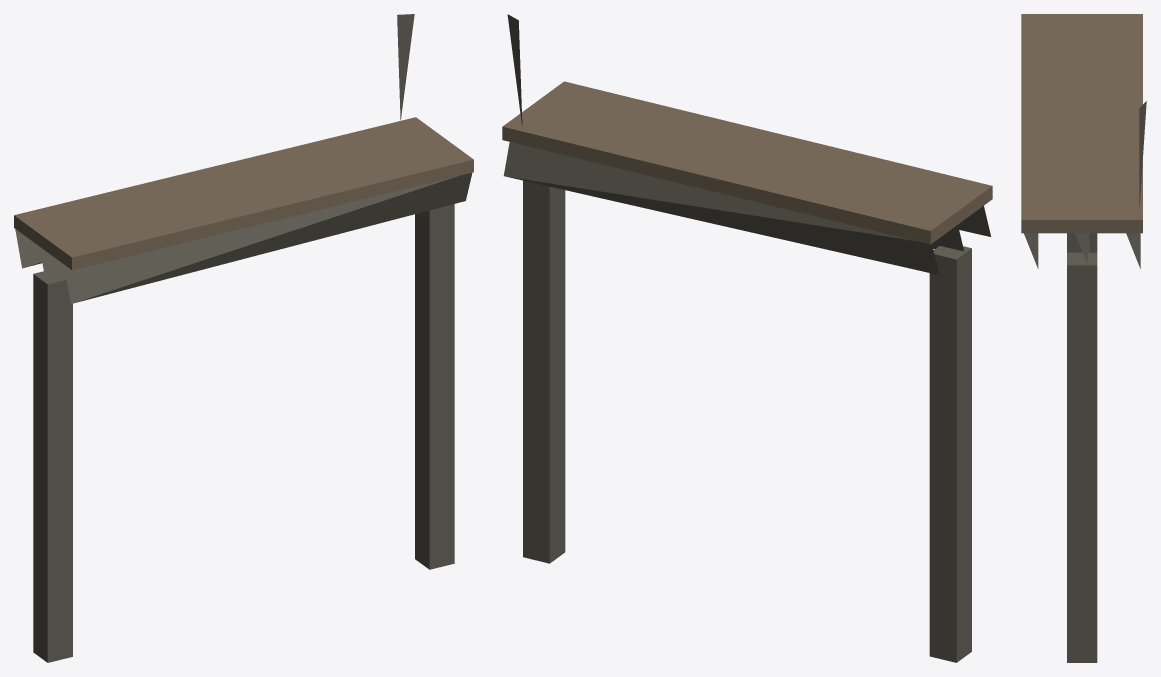
The model's file is bridge-deck-lod1.glb.
The picture shows the model from 3 angles, left to right: view 1: azimuth 30°, elevation 25°; view 2: azimuth 150°, elevation 25°; view 3: azimuth 270°, elevation 25°; orthographic projection. The views are drawn at different scales.
Bounding box in the file's own units: 4.05 × 5 × 1.03.
